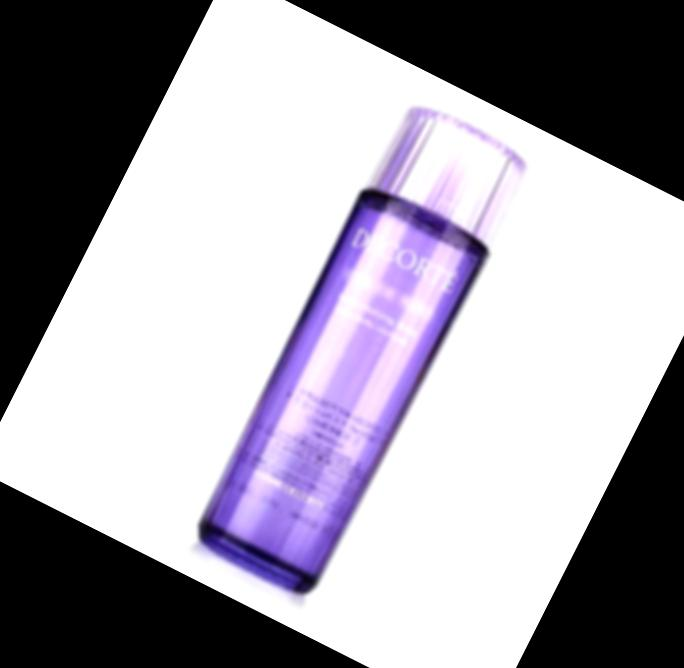cosmetic: (177, 95, 538, 606)
